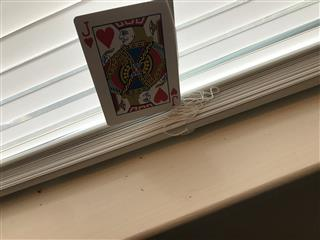JackOfHearts: (72, 1, 180, 125)
